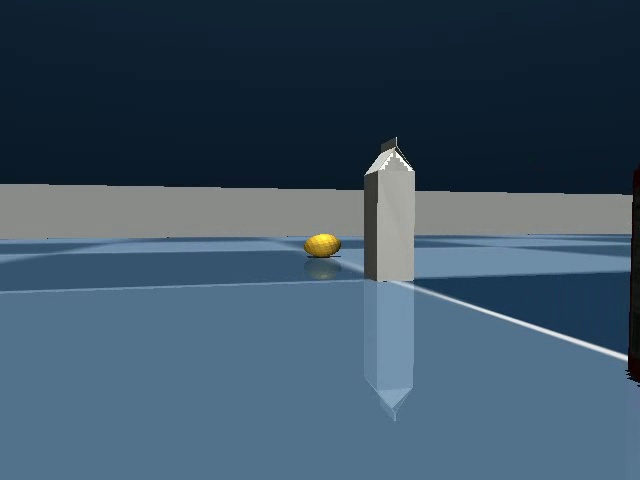lemon: (300, 228, 346, 263)
milk: (359, 131, 420, 287)
